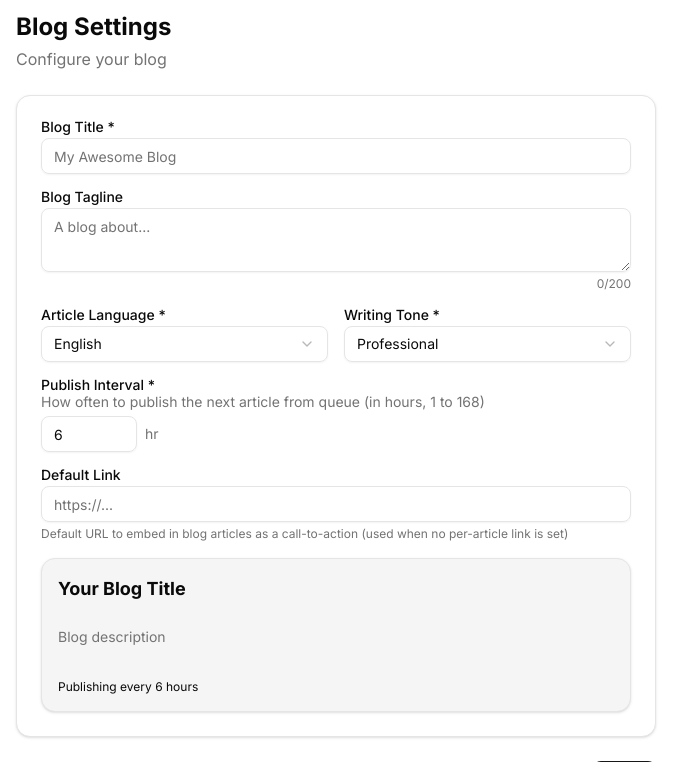
Blog › clamps over-max input to 168 on blur
Replace the text in the number field labelled "Publish Interval *" with "200": (89, 434) [41,416,137,452]
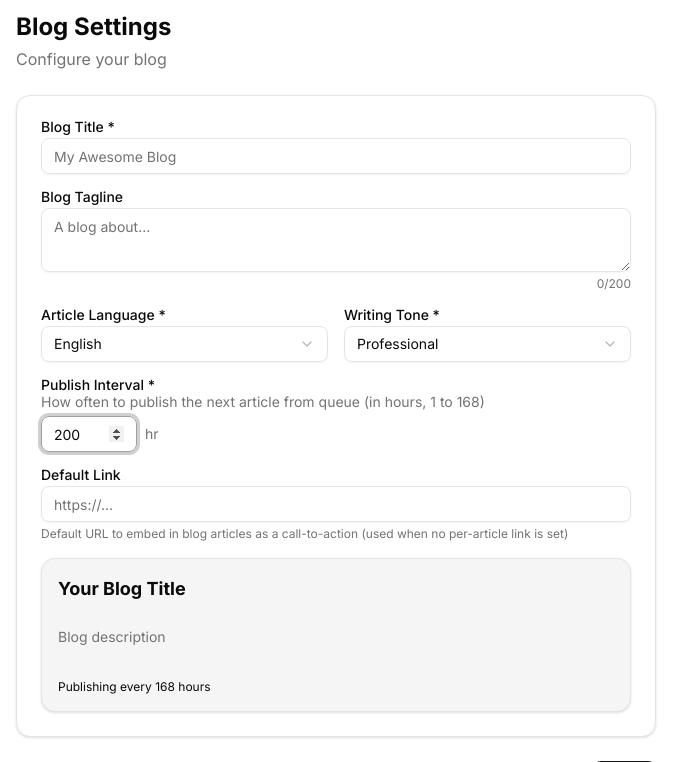
Press Tab
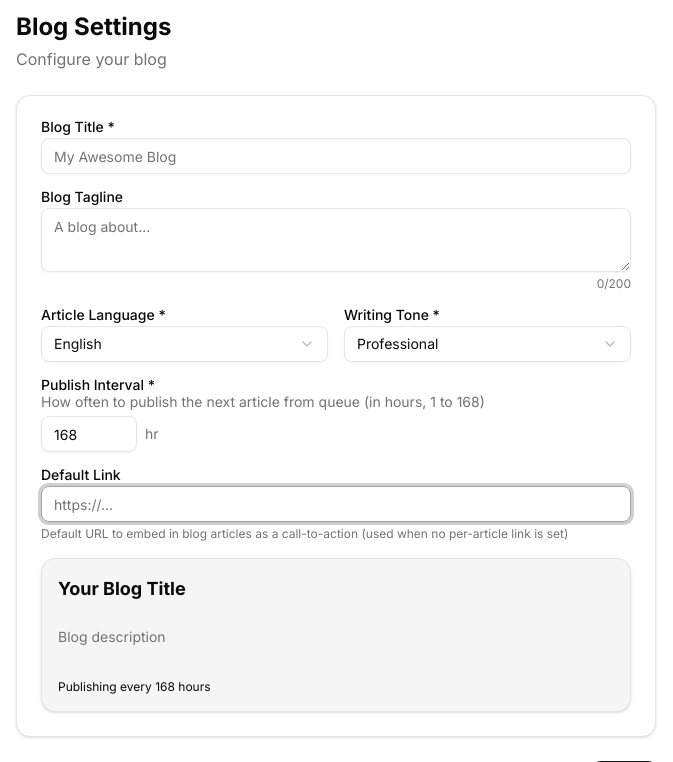
Expected: the number field labelled "Publish Interval *" holds "168", [41,416,137,452]
